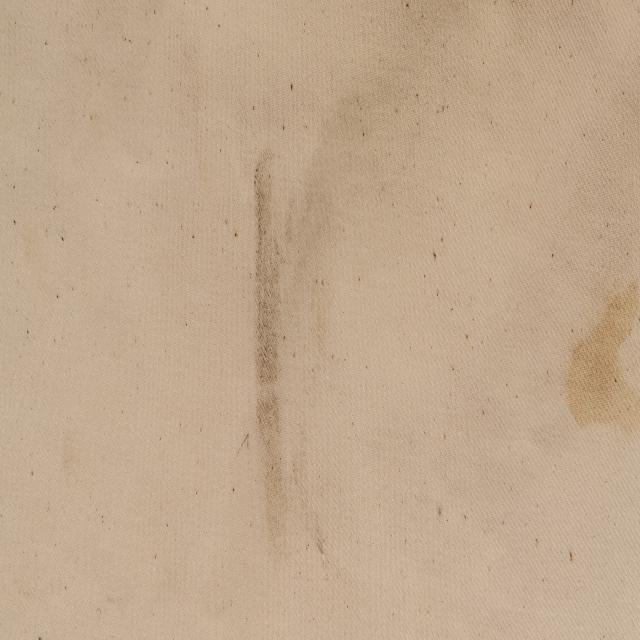taaaches: (228, 137, 314, 550), (554, 245, 640, 466)
